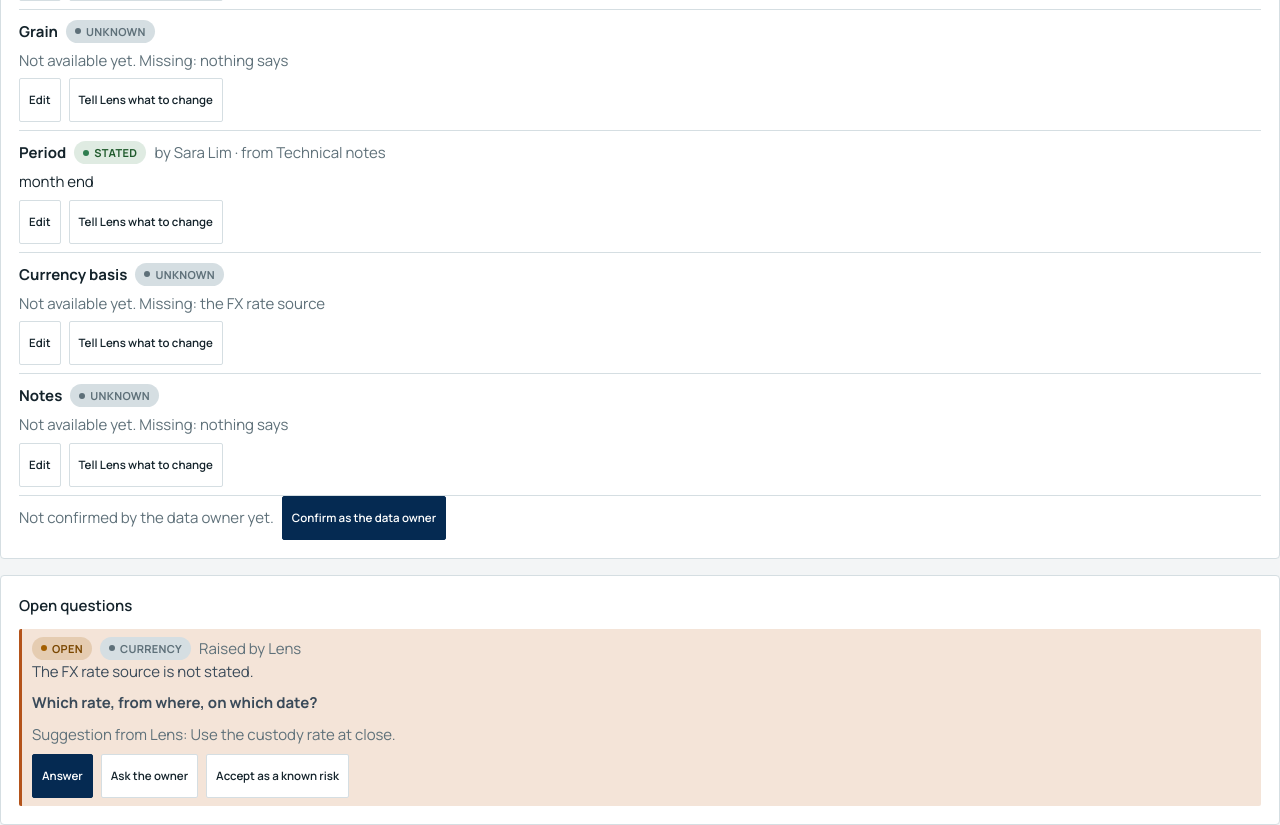
Test: open questions in a measure › Answer settles it with the words written; a suggestion can be used but is never applied by itself
(page scrolled)
Step 1. Click the button "Answer" → (62, 776), box [32, 754, 93, 798]
(page scrolled)
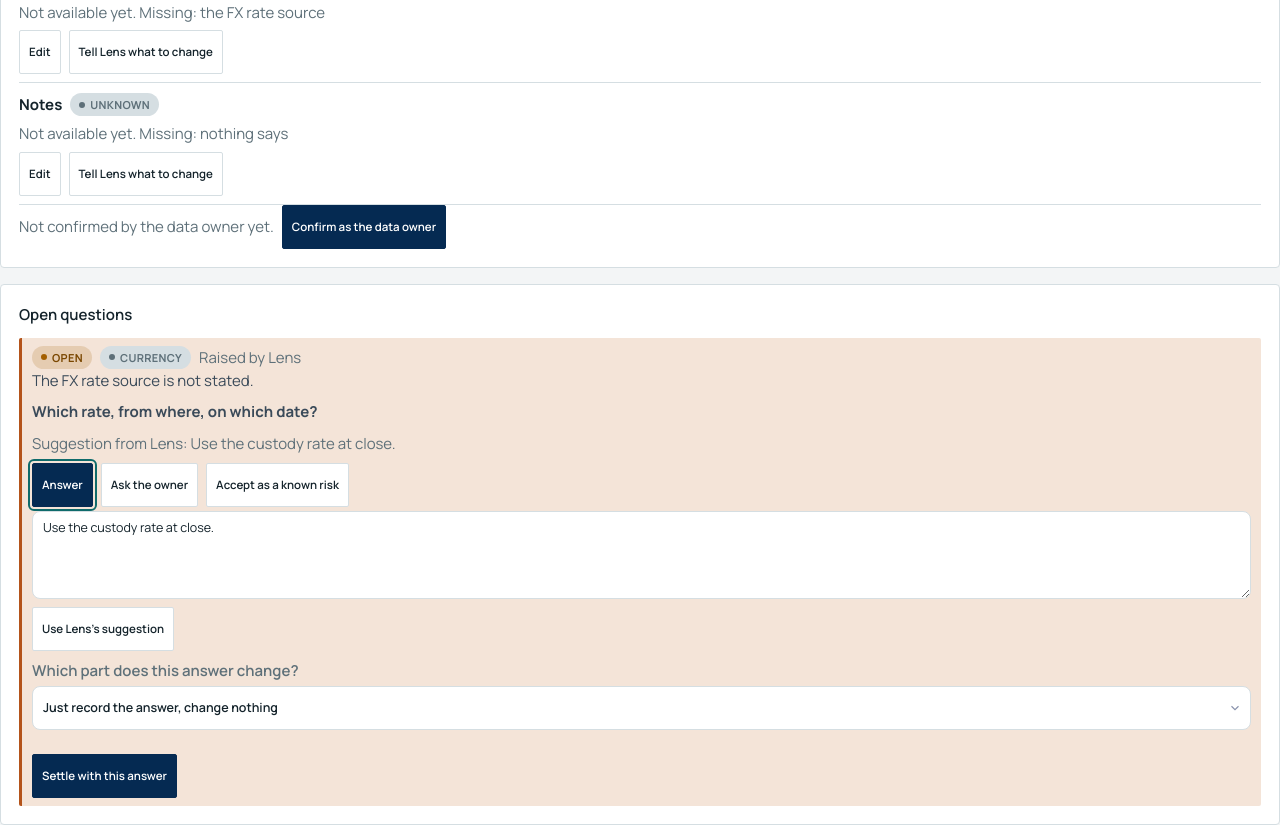
Expected: the text box named "Your answer" holds "Use the custody rate at close.", [32, 511, 1251, 599]
Step 2. Click the button "Settle with this answer" → (104, 776), box [32, 754, 177, 798]
(page scrolled)
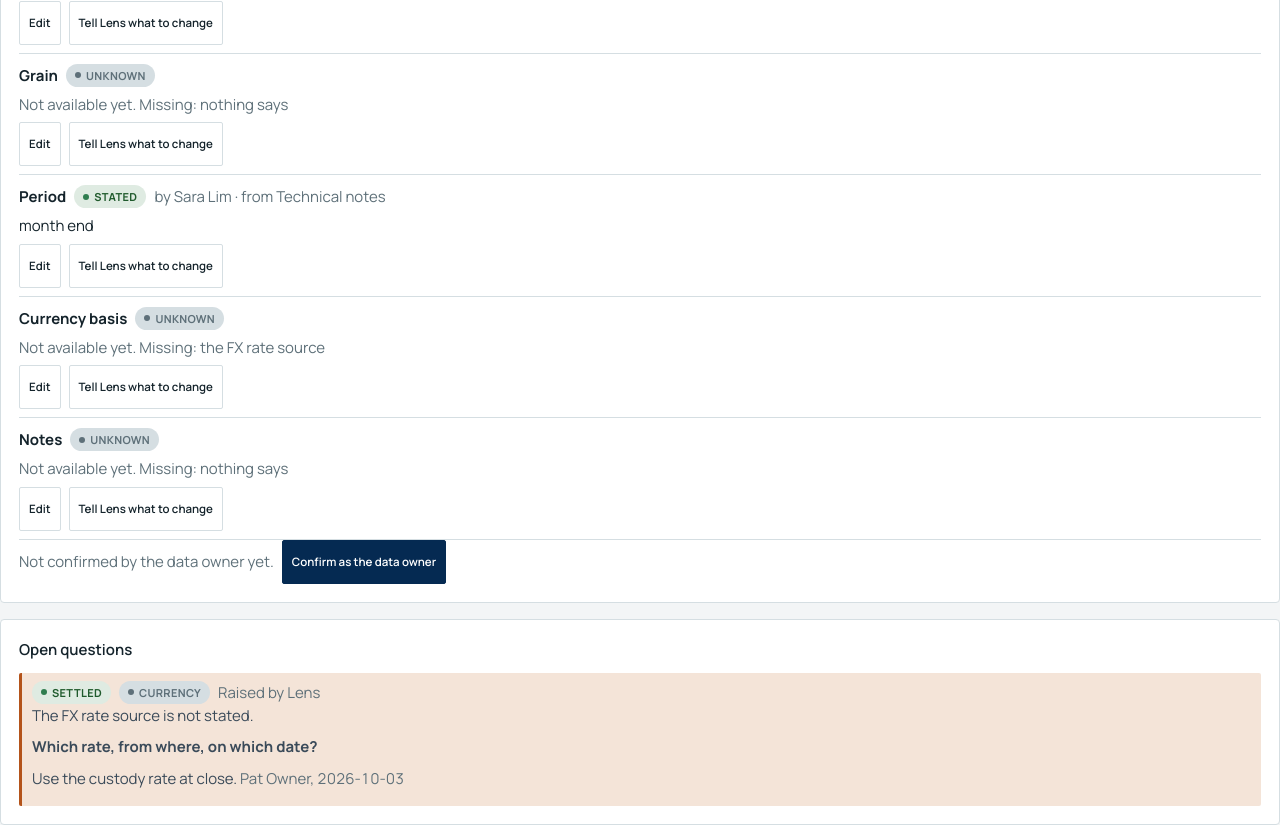
Expected: the text "Settled" is shown, [32, 681, 111, 704]
Expected: the button "Answer" is gone
